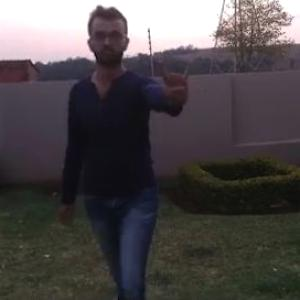takeoff-hand: (157, 58, 200, 102)
